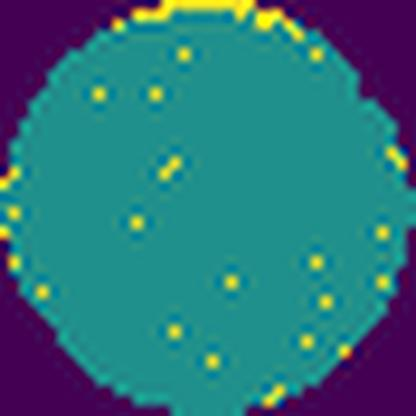Edge-Loc: (128, 0, 308, 38)
